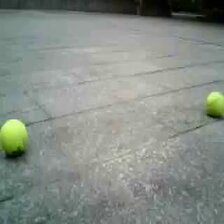tennis: (1, 119, 29, 155), (206, 90, 224, 116)
